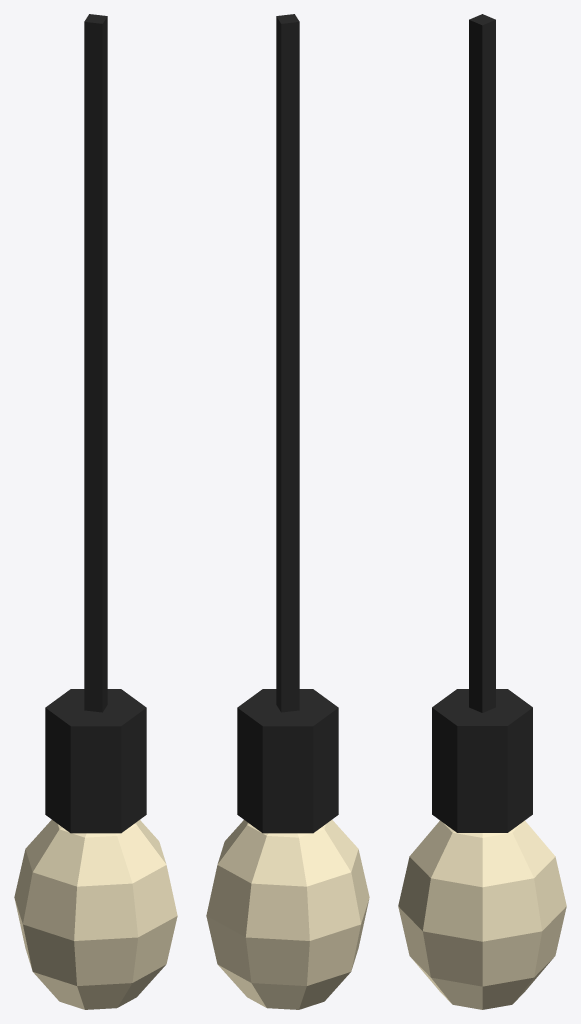
File: Interior_Lamp.obj
The picture shows the model from 3 angles, left to right: view 1: azimuth 30°, elevation 25°; view 2: azimuth 150°, elevation 25°; view 3: azimuth 270°, elevation 25°; orthographic projection.
Parts seen in each view (by area): view 1: Interior_Lamp; view 2: Interior_Lamp; view 3: Interior_Lamp.
Part boxes in pixels (box(x1,y1,x2,y2)): Interior_Lamp: box(14, 14, 177, 1009); Interior_Lamp: box(206, 14, 369, 1009); Interior_Lamp: box(398, 14, 566, 1009).
Bounding box in the file's own units: 0.1 × 0.645 × 0.1.
